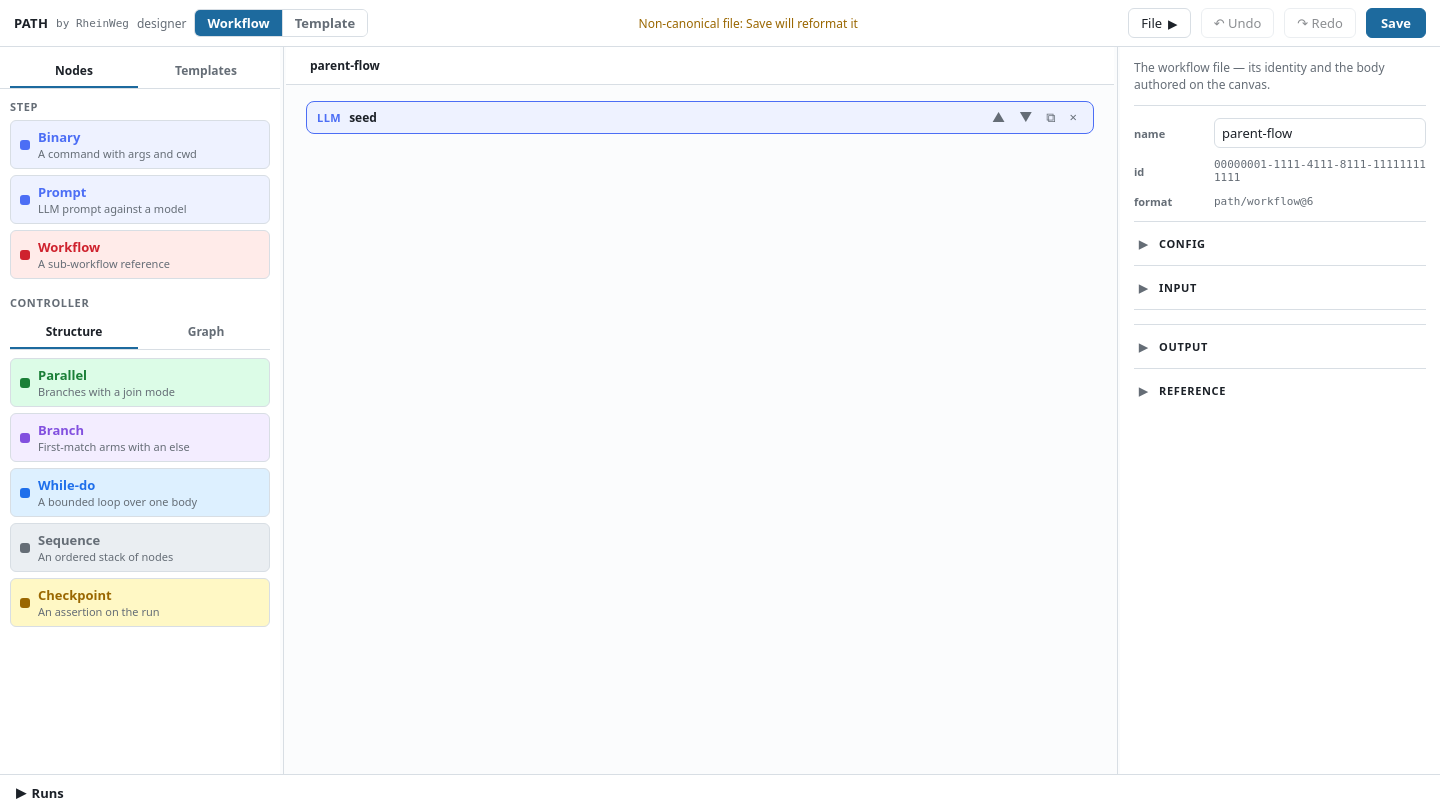
Test case: create-new descends into a fresh, unwritten child › writes no stub, descends into a dirty, path-less child that takes no lease and cannot launch
This screenshot has width=1440, height=810.
expect the text "seed" is shown: met, box [349, 109, 377, 126]
Click the text "Workflow" at x=69, y=247, box [38, 238, 100, 256]
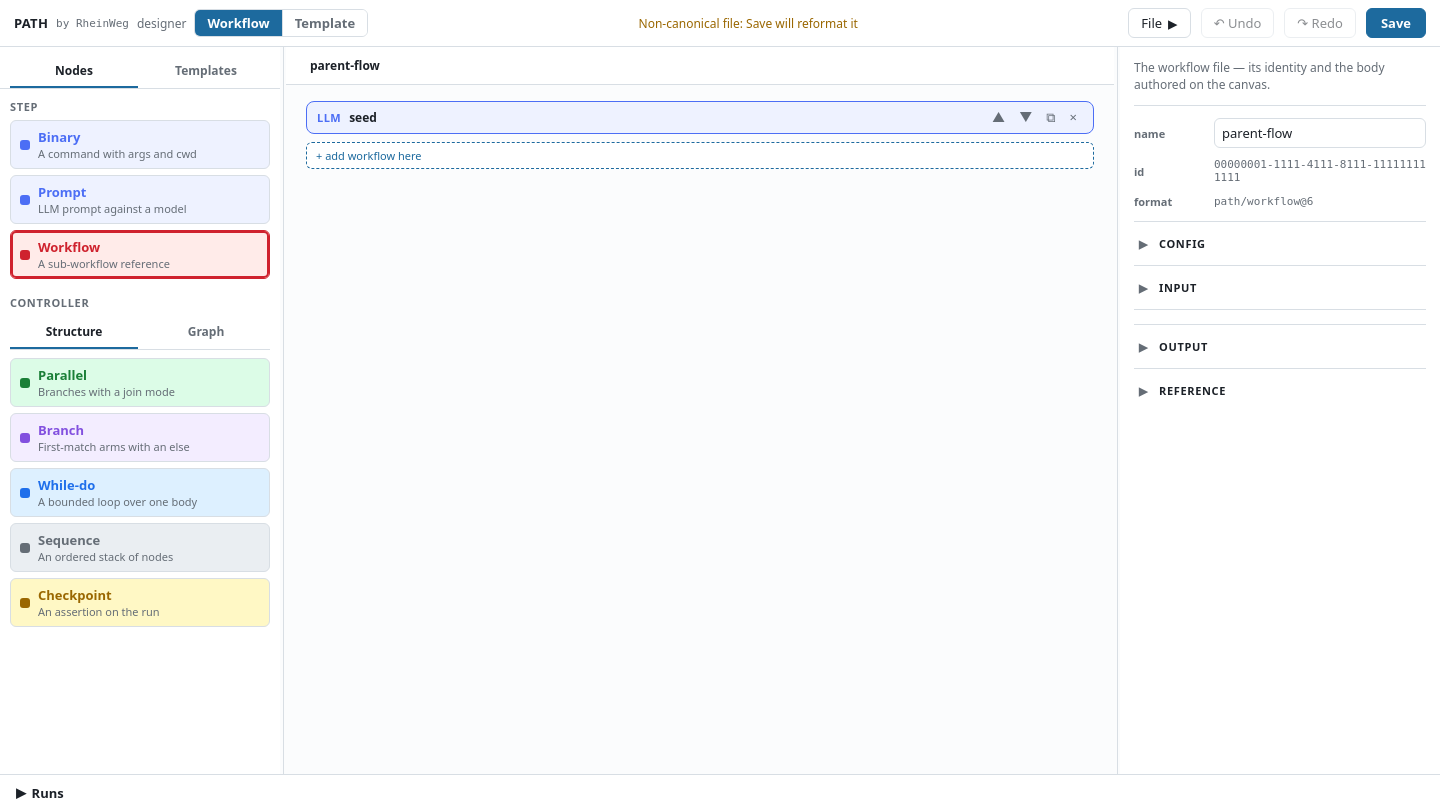
Click the button "+ add workflow here" at x=369, y=156, box [306, 142, 1094, 169]
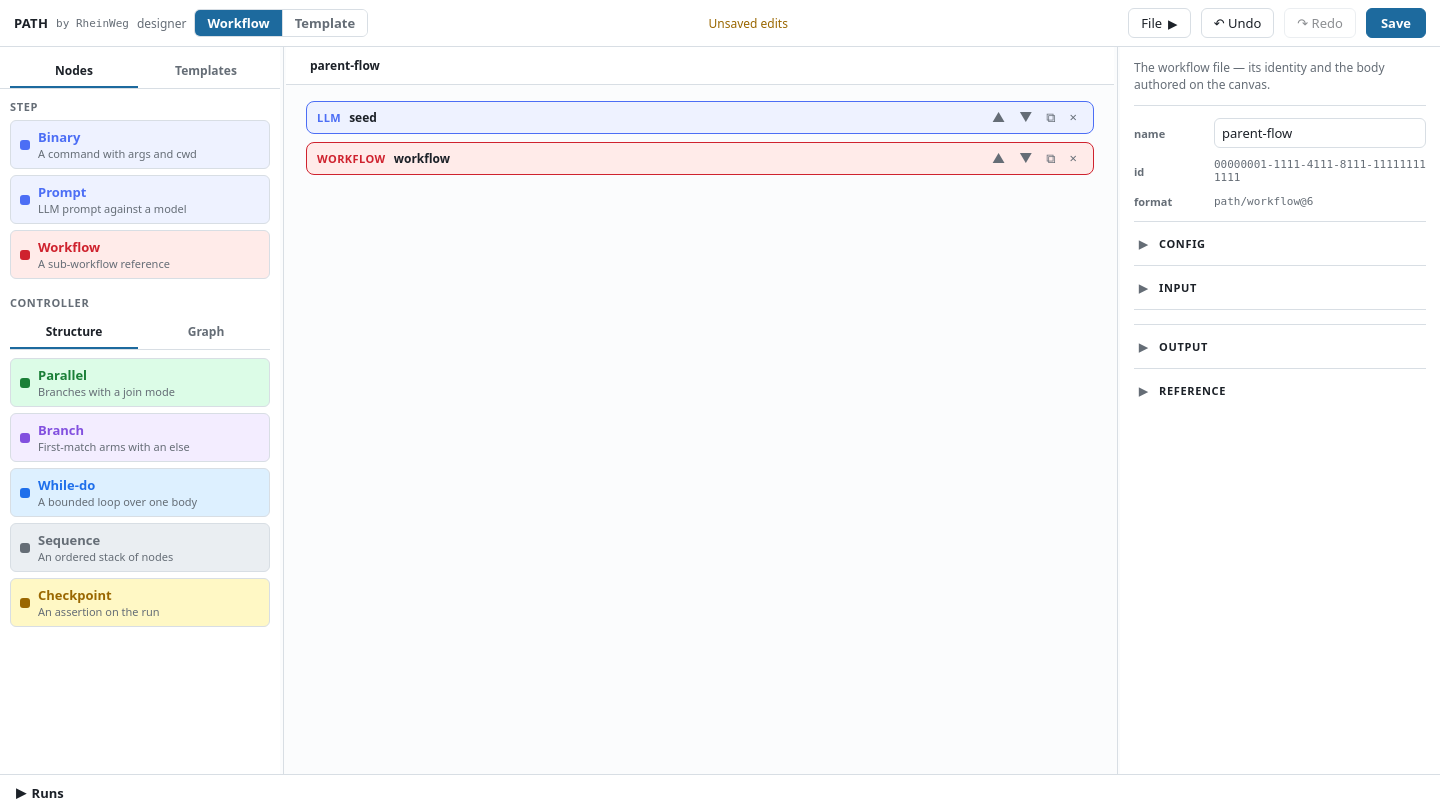
Click the button "WORKFLOW workflow ▲ ▼ ⧉ ×" at x=351, y=158, box [306, 142, 1094, 175]
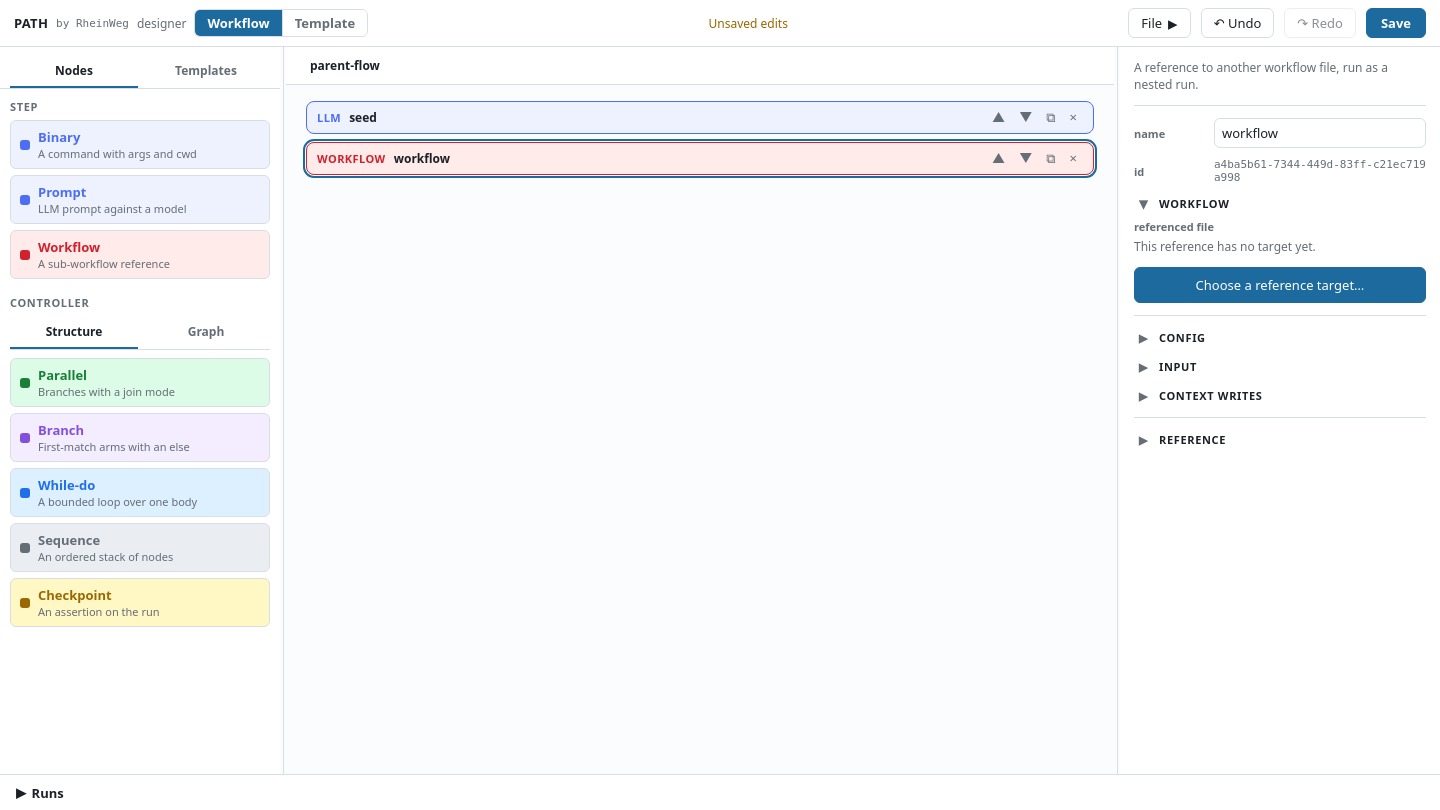
Click the button "Choose a reference target…" at x=1280, y=285, box [1134, 267, 1426, 303]
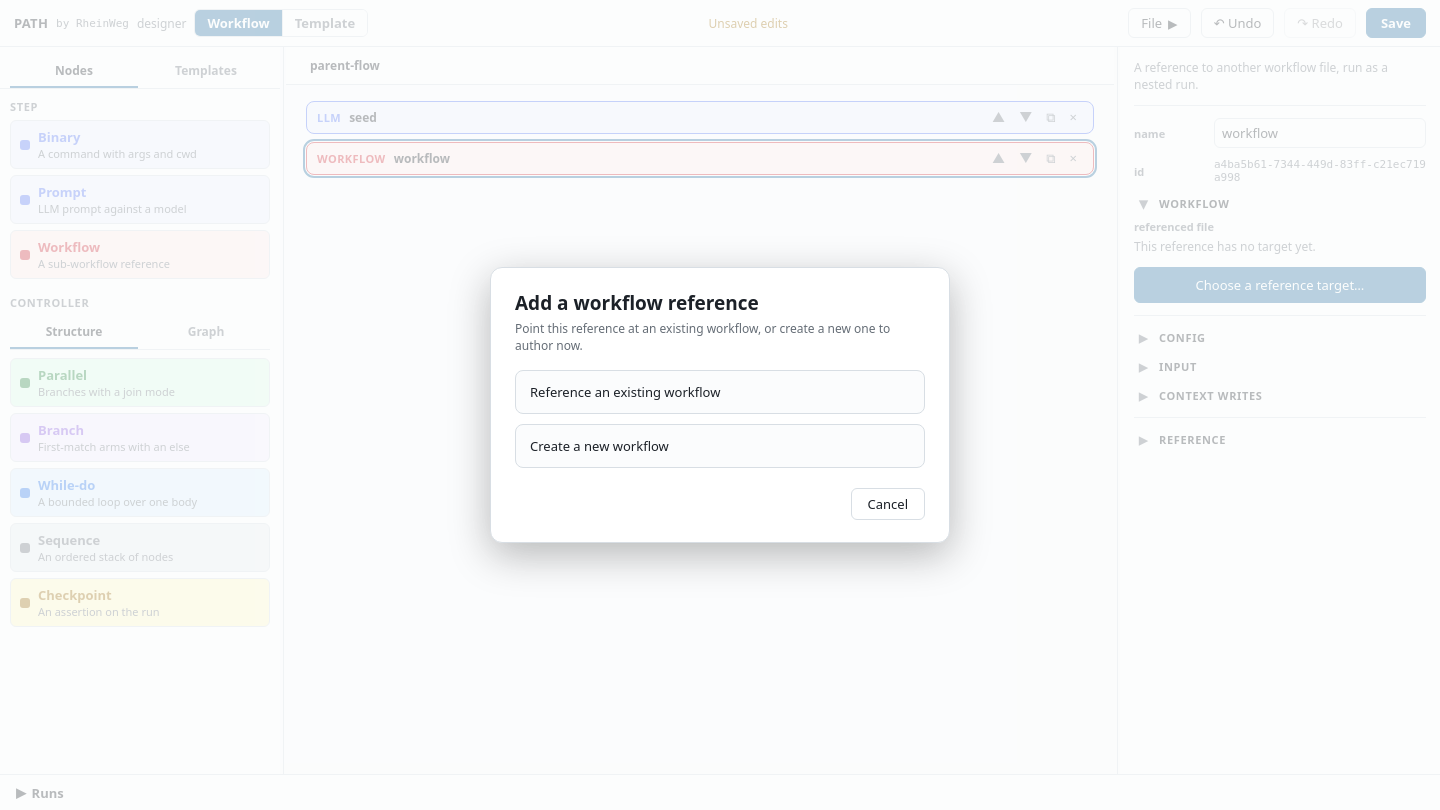
Click the button "Create a new workflow" at x=599, y=446, box [515, 424, 925, 468]
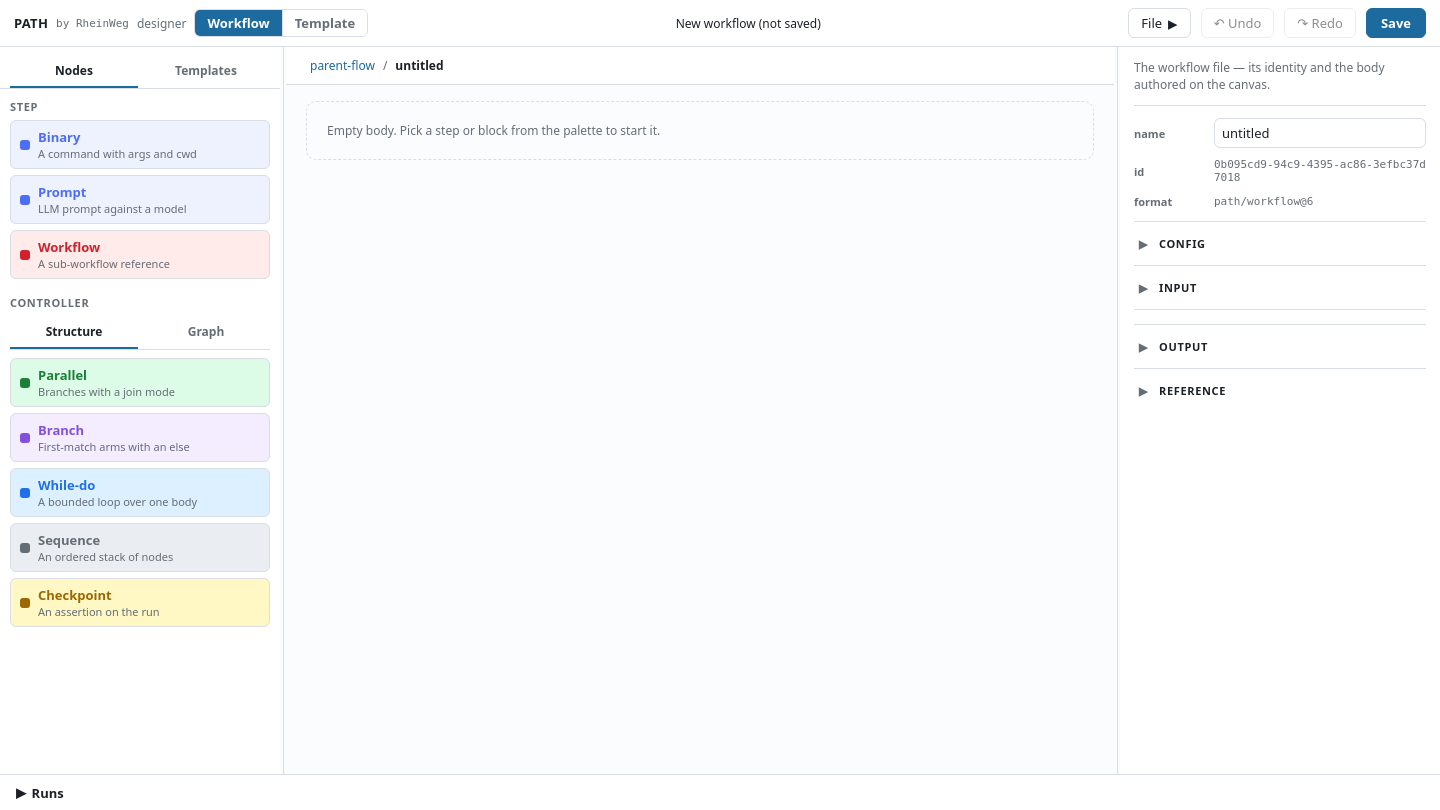
expect the button "parent-flow" is shown: met, box [306, 55, 379, 76]
expect the element named "Start a body" is shown: met, box [306, 101, 1094, 160]
expect the button "untitled" is shown: met, box [391, 55, 448, 76]
Click the button with test id "run-dock-toggle" at x=40, y=792, box [10, 779, 70, 806]
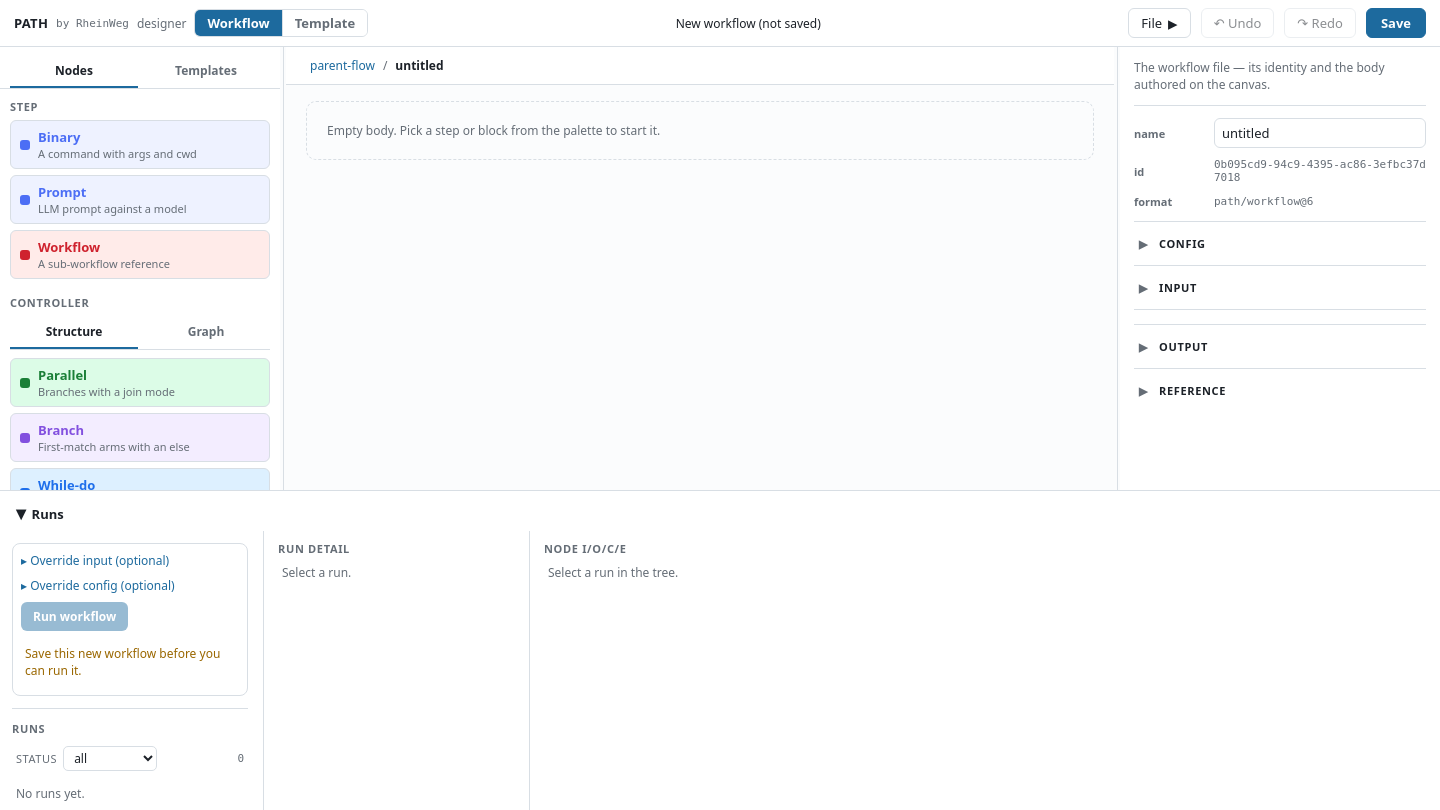
expect the text with test id "run-launch-gate" reads "Save this new workflow before you can run it.": met, box [25, 645, 220, 679]
